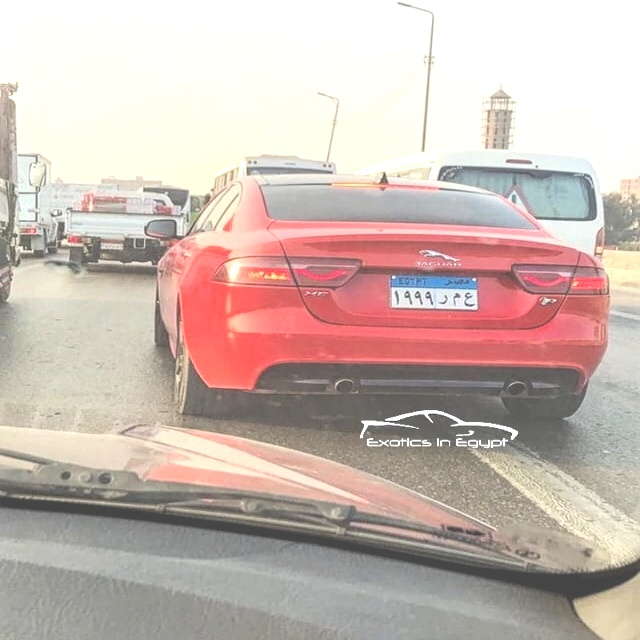License Plate: (387, 272, 482, 312)
